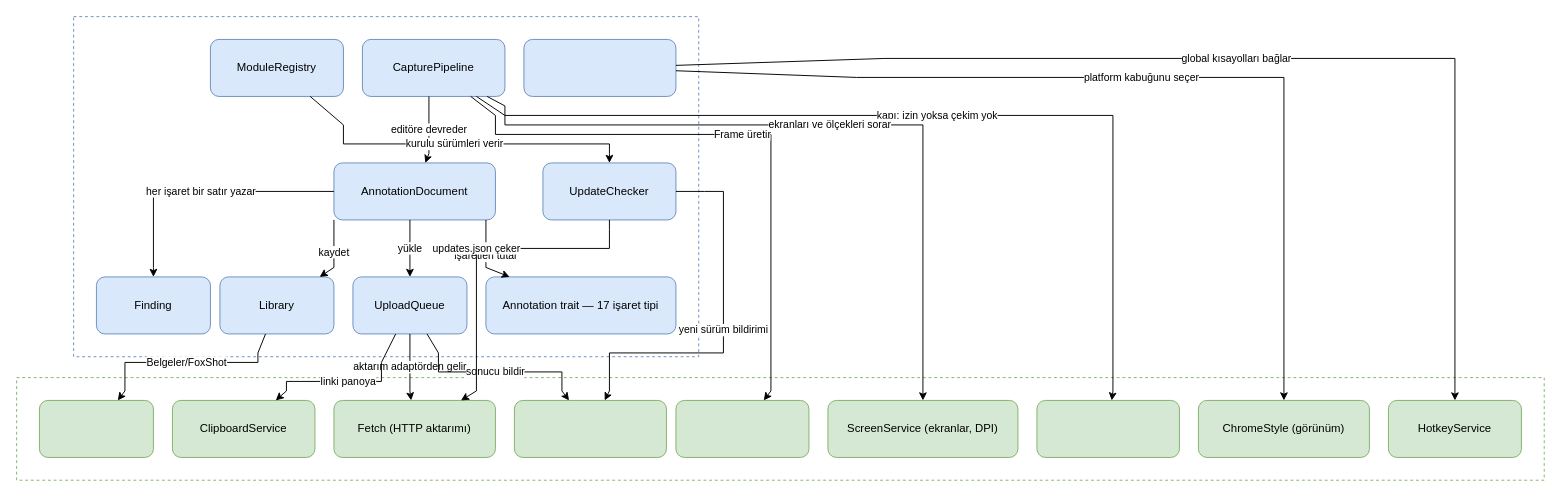
The diagram is 1561 pixels wide and 497 high, and some of its shapes have lost their labels. The shapes that lost their labels are listed below. From the top down, each one's box as (x1, y1, x2, y2) in pixels, then its label:
(523, 38, 676, 96): Settings + Hotkeys
(73, 16, 699, 357): core
(38, 399, 153, 457): Paths
(513, 399, 666, 457): NotificationService
(675, 399, 809, 457): ScreenCapture
(16, 377, 1544, 480): core::platform (adaptörlerin uyguladığı trait'ler)
(1036, 399, 1179, 457): PermissionService
